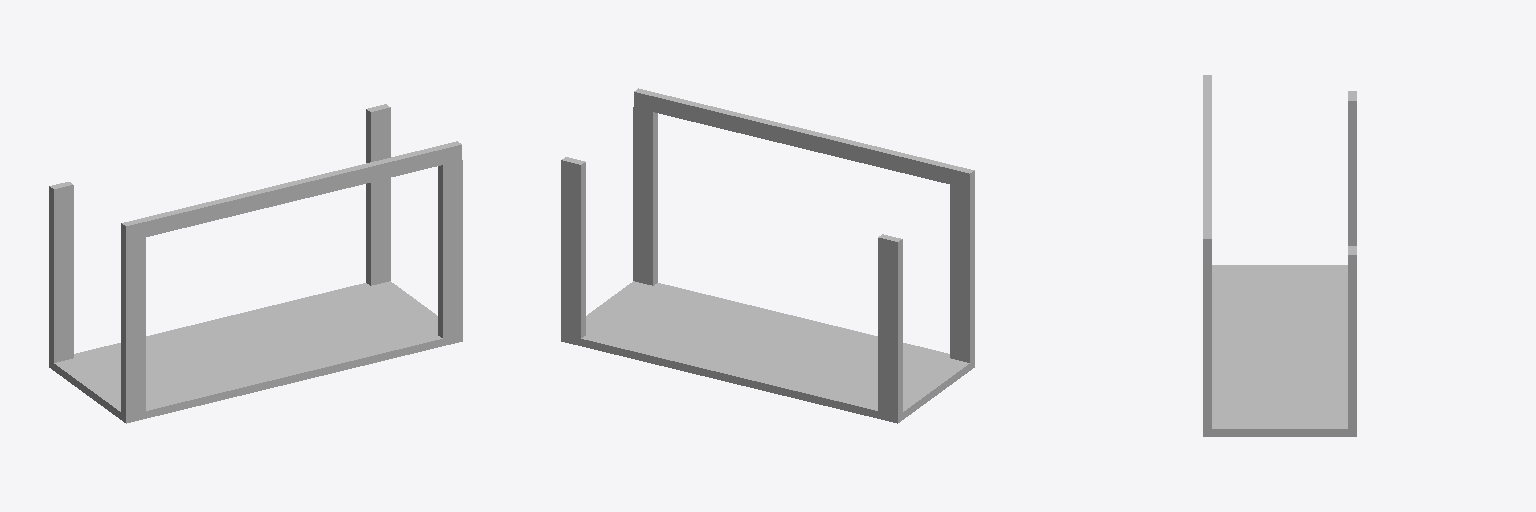
The model's file is Test_Stage_02.obj.
3 renders of one model, left to right at view 1: azimuth 30°, elevation 25°; view 2: azimuth 150°, elevation 25°; view 3: azimuth 270°, elevation 25°, orthographic.
Parts seen in each view (by area): view 1: pCube2; view 2: pCube2; view 3: pCube2.
Boxes of the visible parts, x1=… form: pCube2: x1=49, y1=104, x2=462, y2=423; pCube2: x1=561, y1=88, x2=974, y2=423; pCube2: x1=1203, y1=75, x2=1356, y2=436.
Bounding box in the file's own units: 80.85 × 45.25 × 31.87.